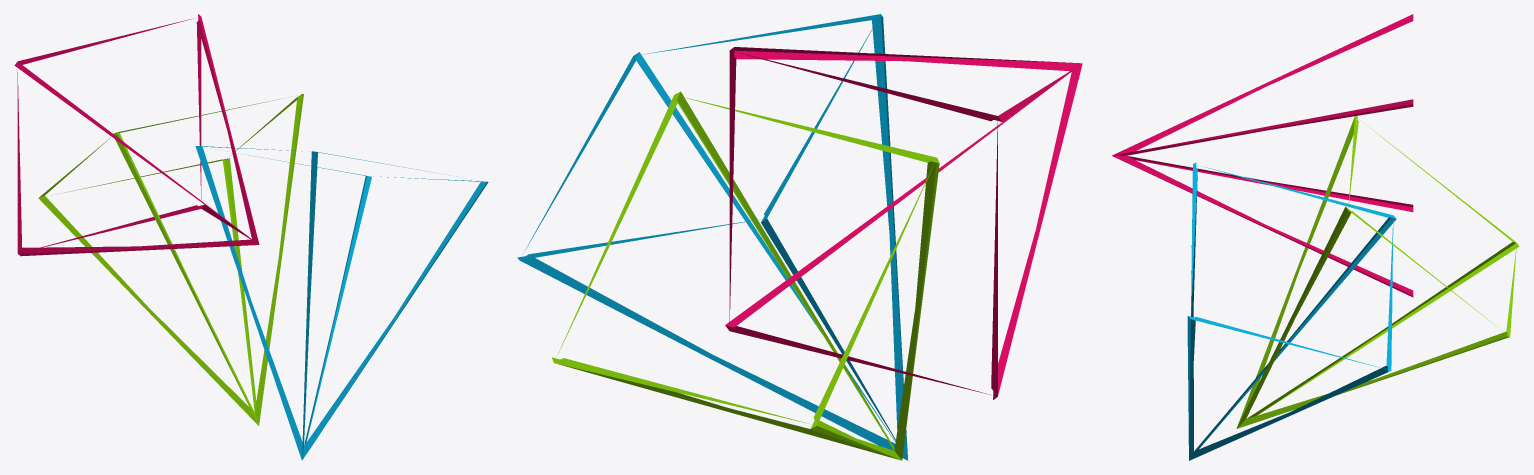
The model's file is pitch_180_wrist_video_20.glb.
3 views of the same model, side by side, from view 1: azimuth 30°, elevation 25°; view 2: azimuth 150°, elevation 25°; view 3: azimuth 270°, elevation 25° (orthographic). The views are drawn at different scales.
Parts seen in each view (by area): view 1: world; view 2: world; view 3: world.
Boxes of the visible parts, x1=… form: world: x1=14, y1=14, x2=488, y2=460; world: x1=517, y1=14, x2=1082, y2=460; world: x1=1112, y1=14, x2=1519, y2=460.
Bounding box in the file's own units: 0.2538 × 0.2424 × 0.2454.
